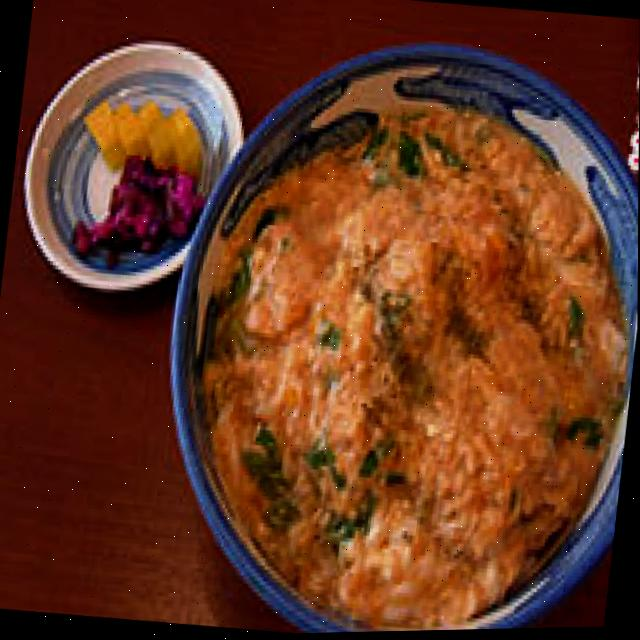米饭主食: (130, 132, 639, 638)
